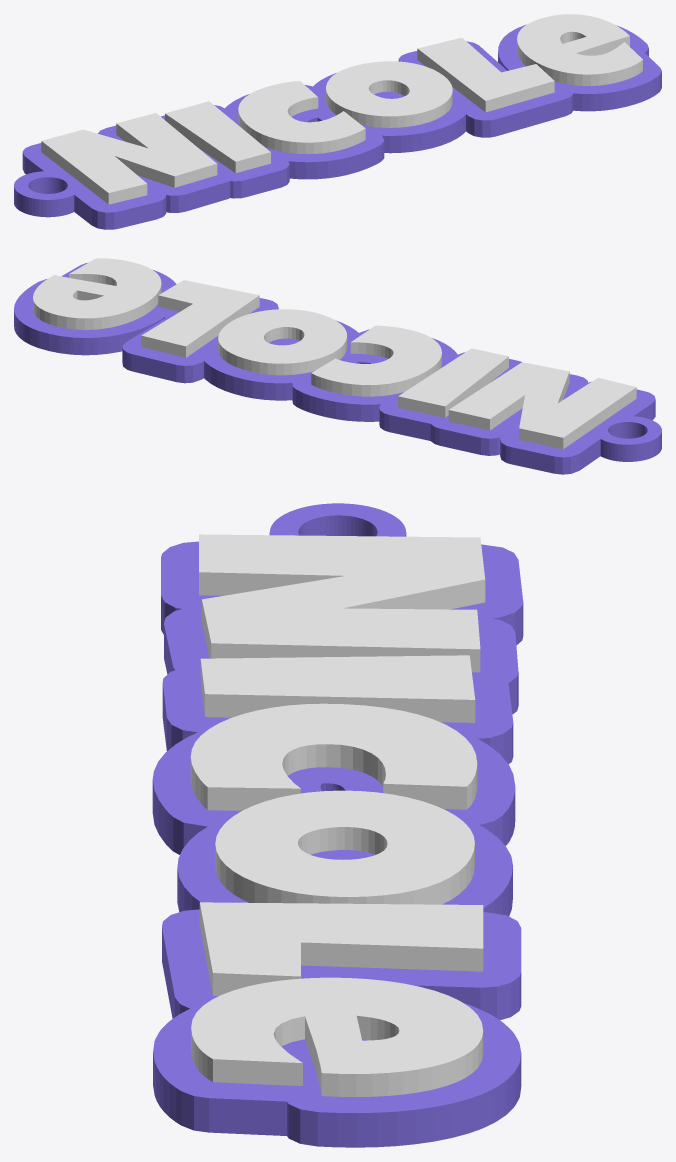
Rendered from nicole-keychain.glb.
3 views of the same model, one above another, from view 1: azimuth 30°, elevation 25°; view 2: azimuth 150°, elevation 25°; view 3: azimuth 270°, elevation 25° (orthographic). The views are drawn at different scales.
Visible parts, largest first — view 1: Text, Base; view 2: Text, Base; view 3: Text, Base.
Part boxes in pixels (x1,y1,x2,y2): Text: [41, 14, 642, 204]; Base: [14, 24, 661, 229]; Text: [33, 258, 636, 449]; Base: [14, 263, 661, 474]; Text: [190, 534, 485, 1096]; Base: [152, 503, 523, 1147].
Size of the model in its own units: 0.091 by 0.004 by 0.0234.
